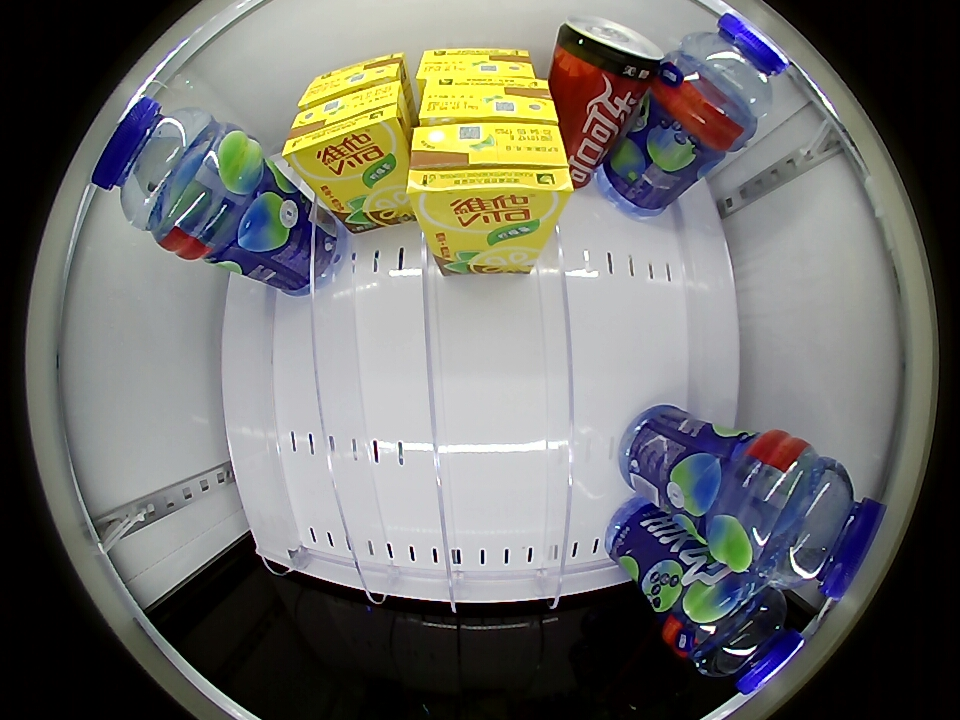lingdukele: (555, 15, 663, 88)
maidong: (94, 99, 238, 246), (744, 449, 884, 597), (666, 12, 785, 147), (688, 575, 803, 696)
weitaningmeng: (408, 120, 572, 228), (282, 81, 406, 185), (417, 74, 560, 125), (298, 52, 408, 110), (417, 47, 537, 83)
